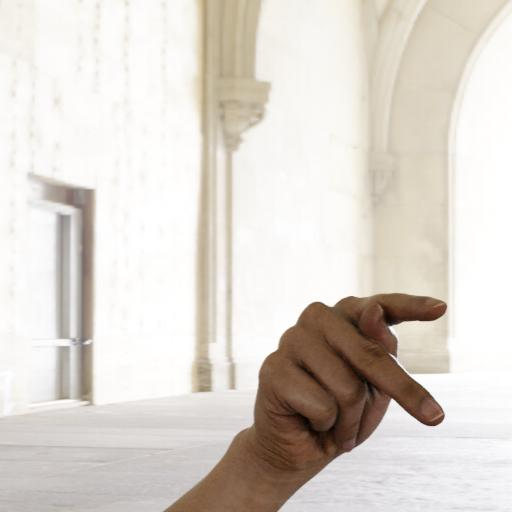P: (254, 290, 449, 468)
